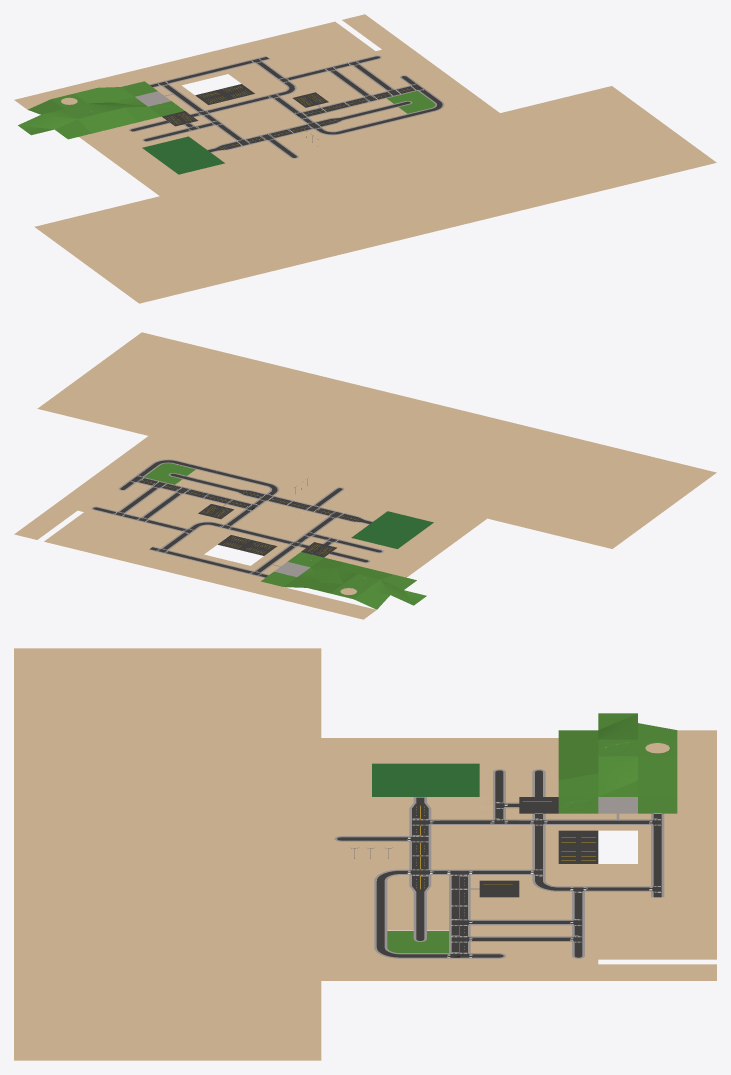
The model's file is temp-world-floor.glb.
3 views of the same model, one above another, from view 1: azimuth 30°, elevation 25°; view 2: azimuth 150°, elevation 25°; view 3: azimuth 270°, elevation 25° (orthographic). The views are drawn at different scales.
Visible parts, largest first — view 1: temp-floor; view 2: temp-floor; view 3: temp-floor.
Boxes of the visible parts, bbox=[...] form: temp-floor: bbox=[14, 14, 716, 303]; temp-floor: bbox=[14, 332, 716, 619]; temp-floor: bbox=[14, 648, 716, 1060].
Bounding box in the file's own units: 740 × 9.98 × 533.
14 materials, 2 textured.
